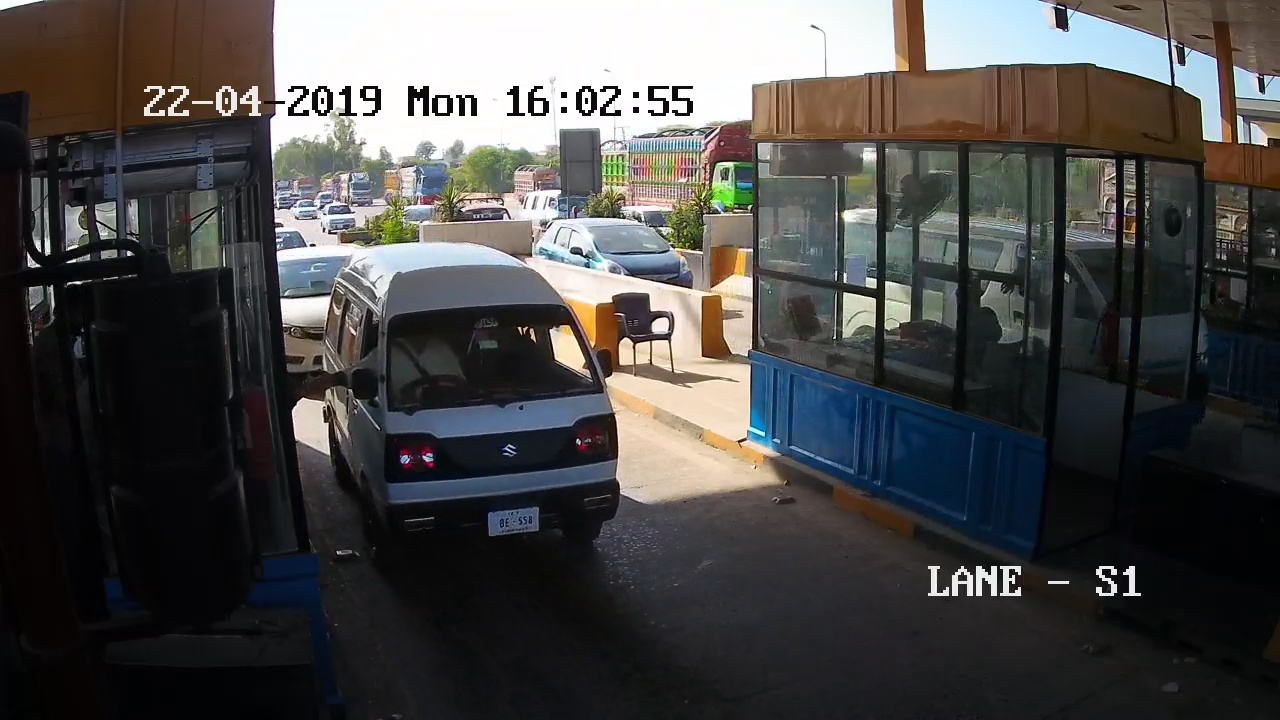Number Plate (Car): (487, 509, 541, 535)
